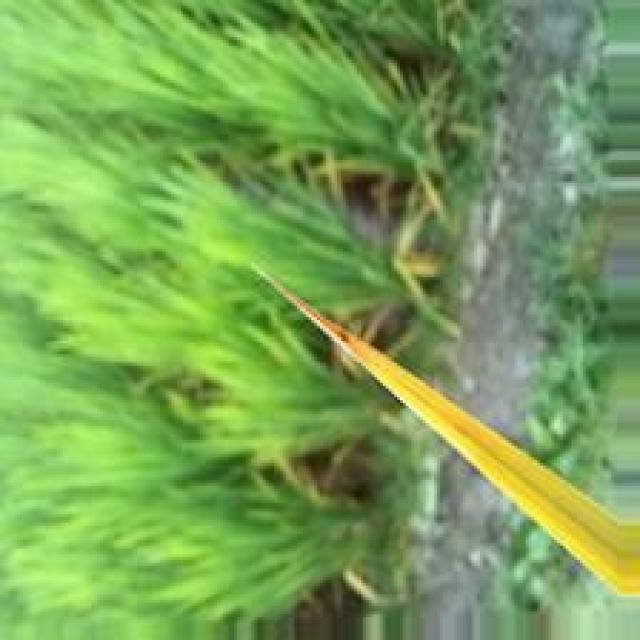Leaf_Scald: (312, 319, 368, 364)
